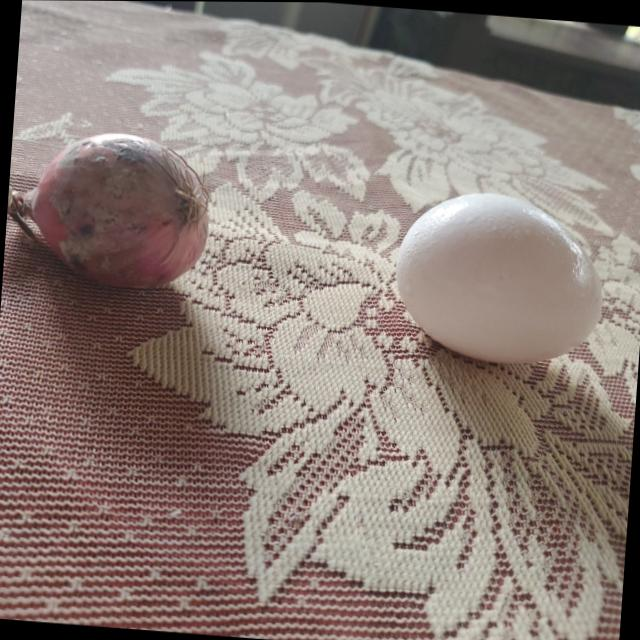egg: (390, 190, 602, 368)
onion: (27, 128, 214, 290)
